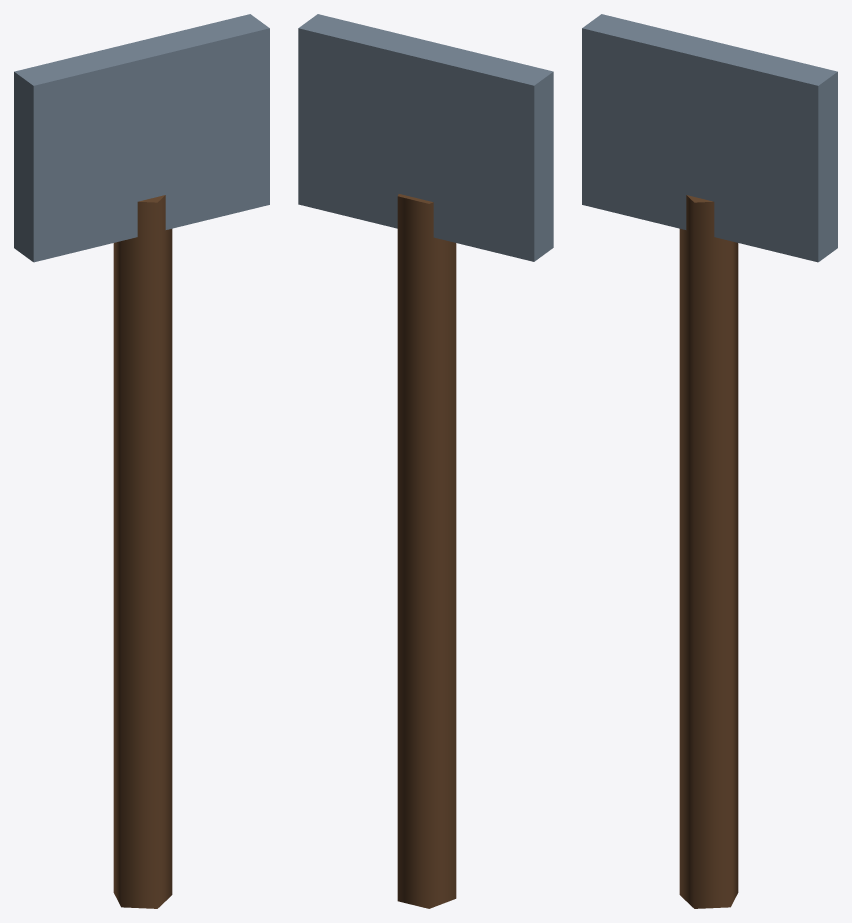
The model's file is fork_tool.glb.
3 renders of one model, left to right at view 1: azimuth 30°, elevation 25°; view 2: azimuth 150°, elevation 25°; view 3: azimuth 330°, elevation 25°, orthographic.
Parts seen in each view (by area): view 1: fork_tool; view 2: fork_tool; view 3: fork_tool.
Part boxes in pixels (x1,y1,x2,y2): fork_tool: (14,14,269,908); fork_tool: (298,14,553,908); fork_tool: (582,14,837,908).
Bounding box in the file's own units: 0.35 × 1.2 × 0.0724.
